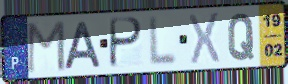A: (61, 20, 104, 71)
L: (147, 14, 179, 68)
M: (25, 18, 67, 75)
P: (107, 16, 144, 71)
Q: (226, 11, 256, 62)
X: (188, 11, 222, 67)
